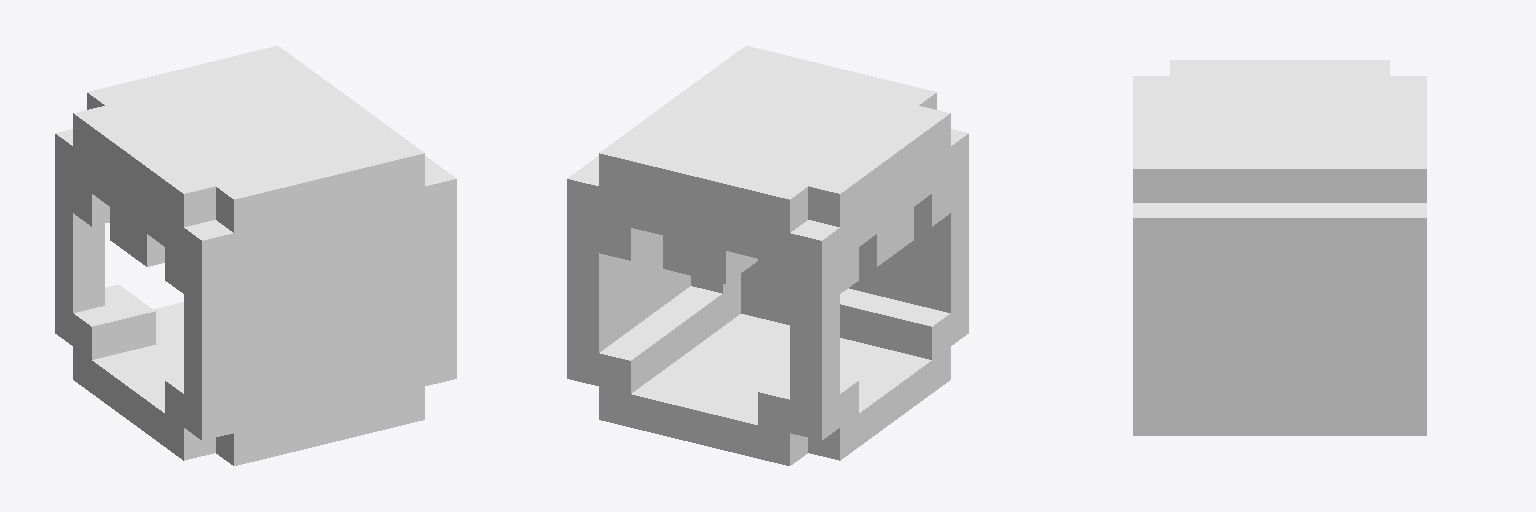
File: Corridor_TURN_RIGHT.obj
3 views of the same model, side by side, from view 1: azimuth 30°, elevation 25°; view 2: azimuth 150°, elevation 25°; view 3: azimuth 270°, elevation 25° (orthographic).
Parts seen in each view (by area): view 1: object 1; view 2: object 1; view 3: object 1.
Boxes of the visible parts, x1,y1,x2,y2 form: object 1: [55, 46, 456, 465]; object 1: [567, 46, 968, 465]; object 1: [1133, 60, 1426, 435].
Size of the model in its own units: 0.8 by 0.8 by 0.8.